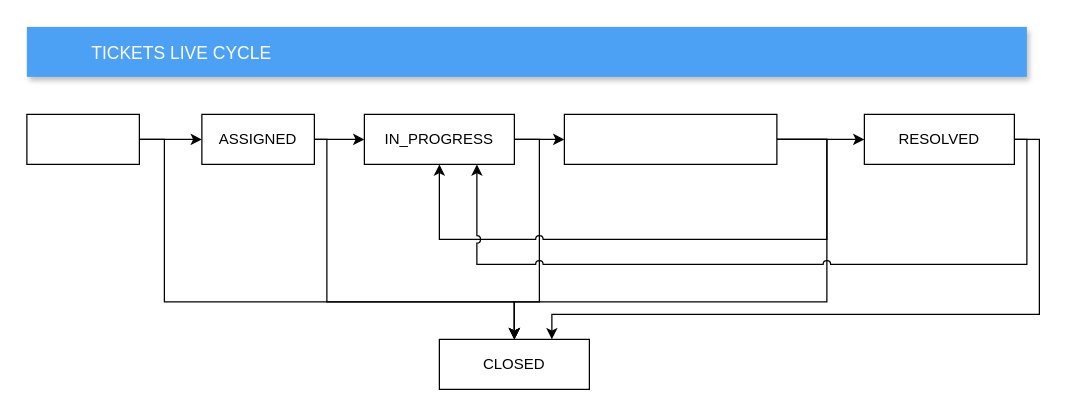
Image size: 1071x411. Some labels were removed from this diagram. The shapes that lost their labels are listed below. From the top down, each one's centre as x and y in pixels, then its label:
point 82,138: CREATED
point 670,138: WAITING_FOR_CLIENT
